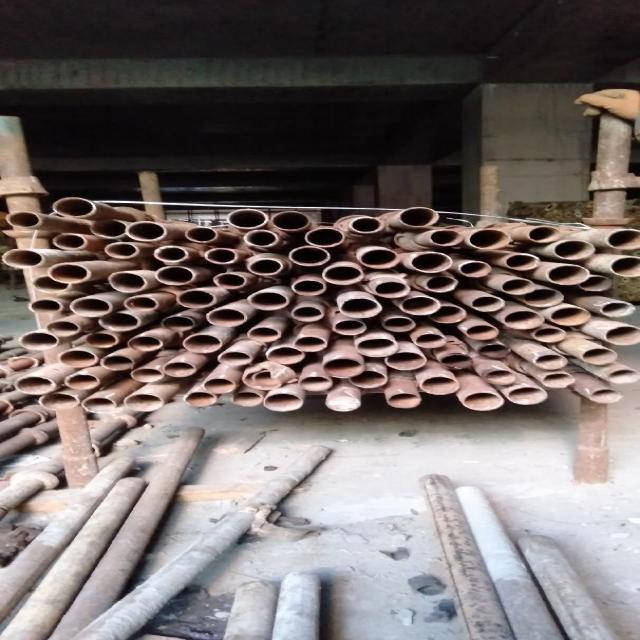pipe: (549, 235, 600, 261), (123, 219, 172, 241), (43, 262, 92, 284), (241, 367, 288, 389), (336, 296, 383, 318), (106, 270, 149, 294), (466, 228, 512, 250), (51, 195, 96, 217), (285, 244, 330, 266), (408, 251, 453, 273), (319, 263, 363, 285), (545, 263, 589, 285), (225, 207, 268, 229), (396, 205, 439, 227), (0, 247, 45, 268), (321, 356, 363, 378), (606, 254, 639, 282), (172, 288, 218, 308), (178, 334, 224, 354), (416, 375, 462, 395), (458, 391, 504, 411), (498, 309, 544, 329), (15, 330, 60, 350), (303, 227, 348, 247), (355, 248, 400, 268), (86, 216, 126, 238), (28, 274, 72, 294), (204, 307, 248, 327), (244, 290, 288, 310), (505, 386, 549, 406), (352, 338, 398, 357), (603, 226, 639, 250), (263, 345, 306, 365), (397, 295, 440, 315), (547, 306, 590, 326), (96, 312, 143, 330), (268, 210, 310, 230), (57, 348, 99, 368), (152, 265, 194, 285), (521, 287, 563, 307), (12, 375, 56, 394), (68, 298, 114, 316), (261, 393, 304, 412), (382, 351, 427, 369), (420, 274, 460, 294), (239, 228, 281, 247), (37, 392, 79, 411), (121, 393, 165, 411), (428, 304, 466, 324), (601, 325, 639, 345), (209, 271, 250, 289), (348, 214, 386, 233), (2, 210, 42, 228), (100, 241, 140, 259), (150, 244, 190, 262), (370, 280, 410, 298), (348, 370, 388, 388), (77, 395, 116, 413), (244, 258, 283, 276), (50, 232, 88, 250), (290, 335, 328, 353), (322, 395, 360, 413), (424, 228, 462, 246), (578, 346, 616, 364), (502, 252, 540, 270), (288, 279, 328, 296), (62, 373, 104, 389), (455, 260, 492, 278), (481, 368, 518, 386), (472, 342, 511, 359), (97, 353, 133, 371), (158, 314, 194, 332), (379, 314, 415, 332), (598, 301, 634, 319), (576, 274, 612, 292), (436, 352, 474, 369), (120, 295, 160, 311), (384, 392, 424, 408), (466, 295, 506, 311), (160, 361, 197, 378), (462, 323, 499, 340), (523, 225, 560, 242), (125, 335, 164, 351), (202, 247, 238, 264), (202, 376, 236, 394), (412, 331, 448, 348), (532, 352, 566, 370), (44, 320, 82, 336), (244, 326, 282, 342), (294, 375, 332, 391), (496, 278, 534, 294), (81, 332, 118, 348), (216, 351, 253, 367), (529, 326, 566, 342), (182, 226, 218, 242), (182, 391, 218, 407), (290, 306, 326, 322), (538, 372, 574, 388), (27, 298, 62, 314), (332, 319, 366, 335), (605, 368, 639, 384), (585, 388, 621, 403), (129, 368, 164, 382), (228, 392, 262, 406)
